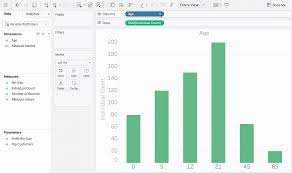Xaxis: (97, 161, 290, 172)
Yaxis: (103, 35, 124, 169)
bar: (211, 42, 226, 164), (183, 72, 198, 163), (155, 90, 169, 163), (126, 115, 142, 163), (240, 124, 254, 164), (268, 151, 282, 163)
